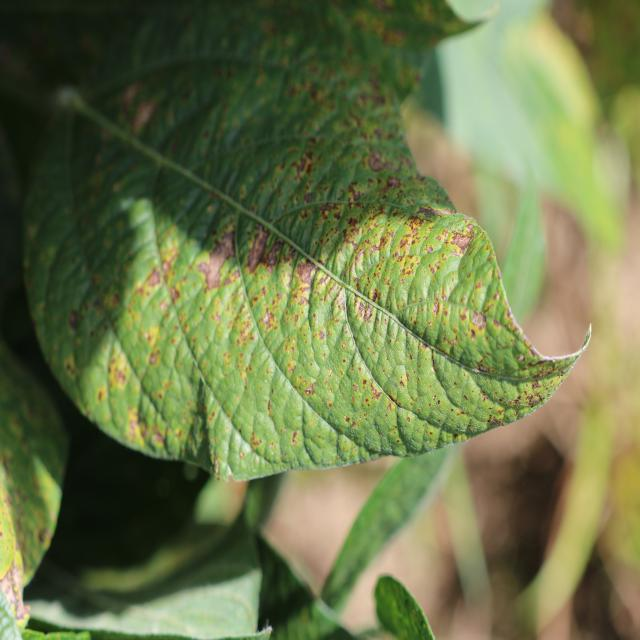Bacterial_Blight: (197, 220, 239, 291), (0, 554, 30, 626), (246, 213, 271, 270), (129, 95, 157, 135), (107, 347, 130, 394), (501, 299, 525, 337), (233, 313, 255, 349), (355, 88, 386, 110), (295, 258, 315, 288), (450, 230, 474, 254), (293, 153, 312, 177), (367, 151, 387, 172), (415, 206, 445, 219), (145, 267, 162, 289), (400, 257, 416, 279), (471, 309, 486, 330), (477, 359, 498, 373), (524, 391, 542, 407), (261, 309, 275, 329), (334, 290, 346, 313), (197, 260, 211, 278), (68, 309, 79, 330), (385, 176, 402, 189), (387, 392, 401, 407), (487, 414, 503, 427), (370, 384, 382, 401), (363, 303, 373, 323), (148, 350, 160, 366), (250, 431, 261, 448), (370, 288, 379, 302), (97, 388, 105, 402), (303, 192, 313, 203), (316, 329, 325, 341), (532, 379, 541, 390), (291, 431, 298, 445), (214, 459, 220, 474), (369, 243, 378, 253), (460, 311, 468, 322), (304, 386, 312, 396), (425, 245, 433, 255), (434, 292, 440, 303), (267, 400, 272, 413), (517, 354, 525, 362), (463, 394, 470, 402), (362, 378, 367, 387), (352, 384, 358, 391), (437, 398, 441, 405)
Soybean: (32, 0, 588, 484)
